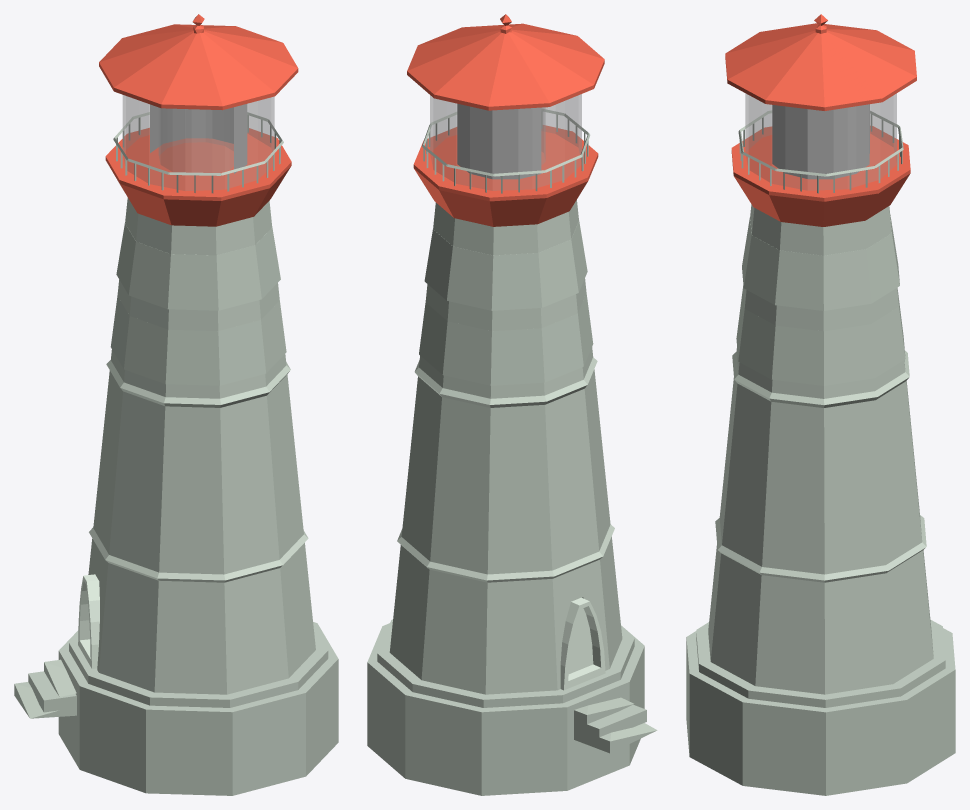
The model's file is Lighthouse.fbx.
The picture shows the model from 3 angles, left to right: view 1: azimuth 30°, elevation 25°; view 2: azimuth 150°, elevation 25°; view 3: azimuth 270°, elevation 25°; orthographic projection.
Parts seen in each view (by area): view 1: Boole_1, Stairs_1, Sphere_1, Cylinder_2, Tube, Tube_1, Array_1, Door; view 2: Boole_1, Stairs_1, Sphere_1, Tube, Cylinder_2, Tube_1, Door, Array_1; view 3: Boole_1, Stairs_1, Sphere_1, Tube, Cylinder_2, Tube_1, Array_1.
Boxes of the visible parts, <box> form: Boole_1: <box>88,197,315,694</box>; Stairs_1: <box>14,622,338,795</box>; Sphere_1: <box>99,14,298,110</box>; Cylinder_2: <box>105,128,291,226</box>; Tube: <box>122,95,274,190</box>; Tube_1: <box>150,104,247,173</box>; Array_1: <box>113,112,283,193</box>; Door: <box>78,574,99,668</box>; Boole_1: <box>389,200,622,694</box>; Stairs_1: <box>367,619,657,795</box>; Sphere_1: <box>407,14,604,110</box>; Tube: <box>430,94,581,190</box>; Cylinder_2: <box>413,125,598,226</box>; Tube_1: <box>457,103,541,179</box>; Door: <box>560,597,605,690</box>; Array_1: <box>422,109,590,193</box>; Boole_1: <box>708,204,933,694</box>; Stairs_1: <box>686,619,955,795</box>; Sphere_1: <box>725,14,916,110</box>; Tube: <box>745,93,896,190</box>; Cylinder_2: <box>731,126,910,226</box>; Tube_1: <box>772,104,869,179</box>; Array_1: <box>738,110,903,193</box>.
Bounding box in the file's own units: 22.74 × 55.92 × 18.86.
